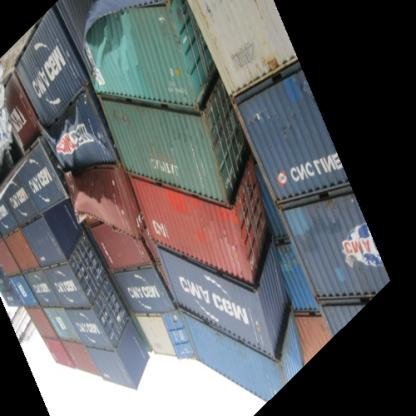Damage: (78, 1, 158, 86), (48, 114, 120, 167), (66, 178, 134, 230)
